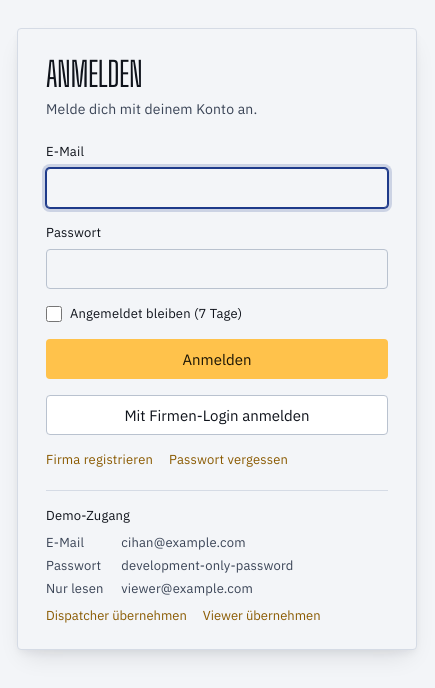
login page › shows a field error without a second banner
This screenshot has width=435, height=688.
Type "kaputt" into the field labelled "E-Mail" at (217, 188), box left=46, top=168, right=388, bottom=208
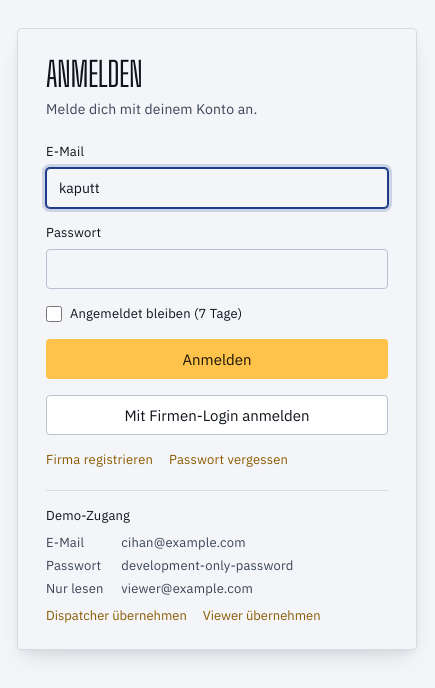
Type "development-only-password" into the password field labelled "Passwort" at (217, 268), box left=46, top=248, right=388, bottom=288
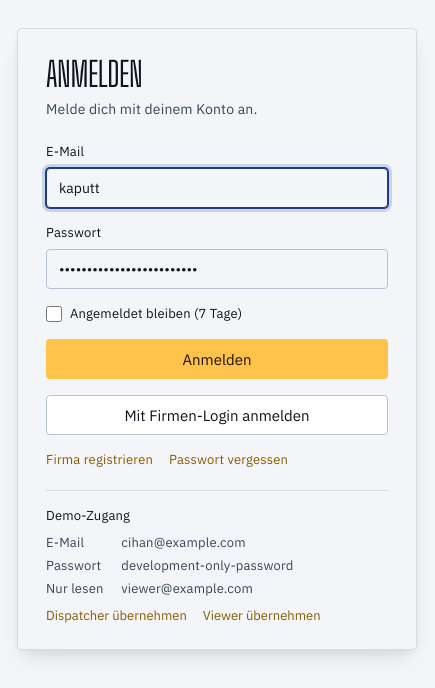
Submit the form "Anmelden", box left=46, top=143, right=388, bottom=435
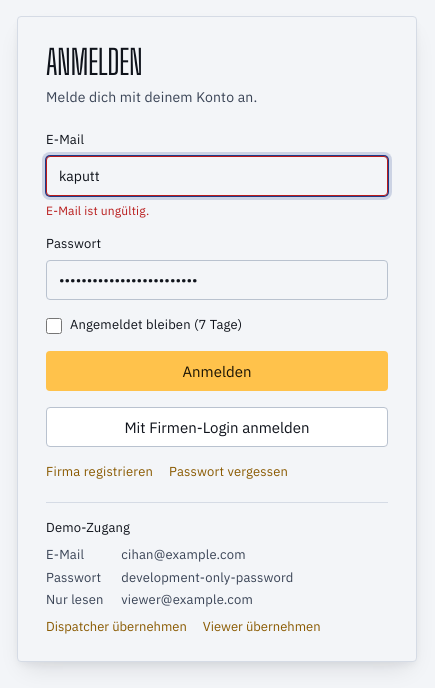
Check: the text "E-Mail ist ungültig." is shown, box left=46, top=203, right=149, bottom=218
